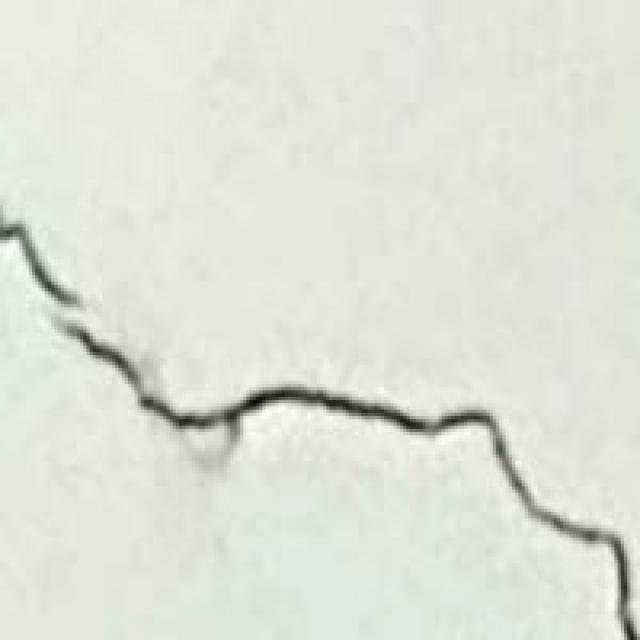Crack: (3, 186, 637, 637)
